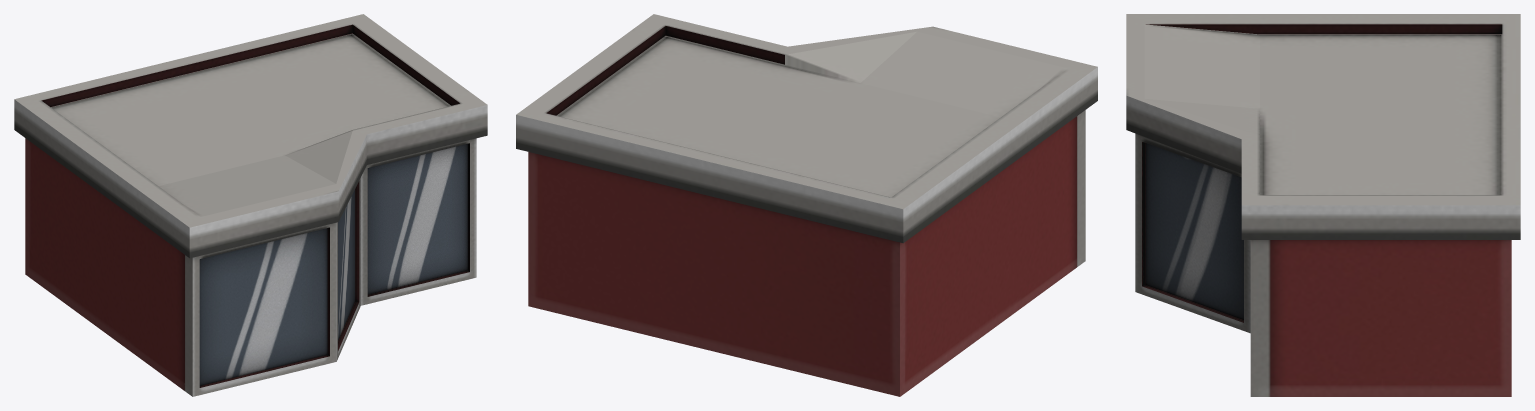
The model's file is House_store45degree.FBX.
3 renders of one model, left to right at view 1: azimuth 30°, elevation 25°; view 2: azimuth 150°, elevation 25°; view 3: azimuth 270°, elevation 25°, orthographic. The views are drawn at different scales.
Visible parts, largest first — view 1: Base002; view 2: Base002; view 3: Base002.
Boxes of the visible parts, box(x1,y1,x2,y2) form: Base002: box(14, 14, 487, 396); Base002: box(516, 14, 1097, 396); Base002: box(1126, 14, 1520, 396).
Size of the model in its own units: 521 by 248 by 453.
